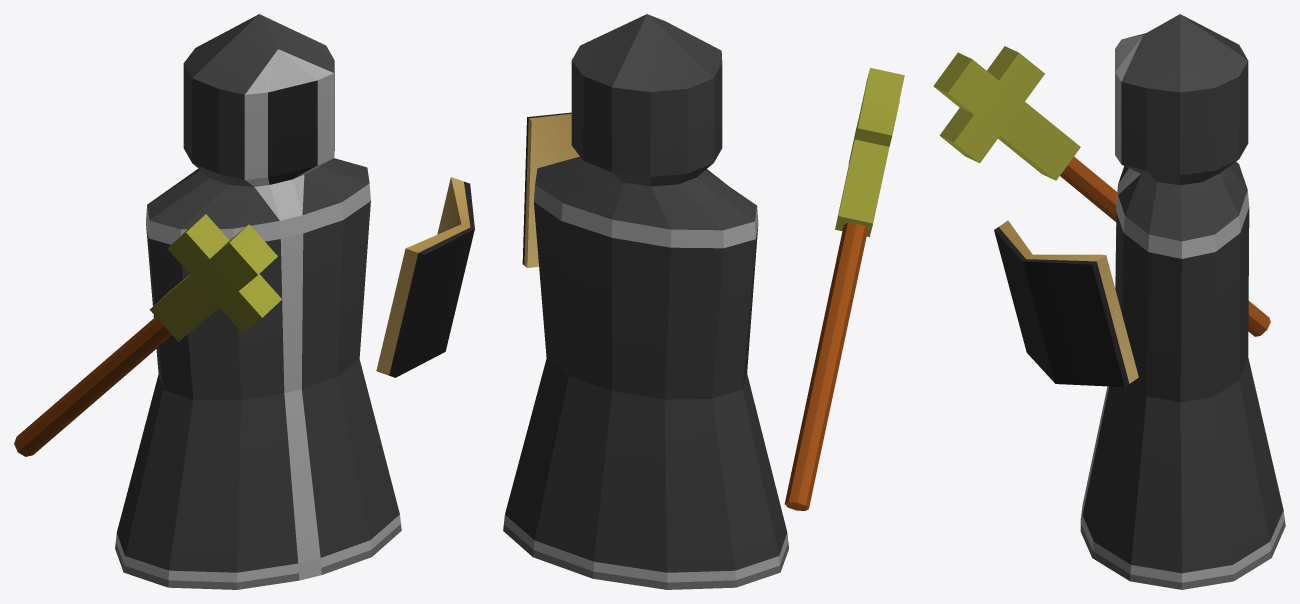
The model's file is Priest.glb.
The picture shows the model from 3 angles, left to right: view 1: azimuth 30°, elevation 25°; view 2: azimuth 150°, elevation 25°; view 3: azimuth 270°, elevation 25°; orthographic projection. The views are drawn at different scales.
Parts seen in each view (by area): view 1: Priest; view 2: Priest; view 3: Priest.
Boxes of the visible parts, x1,y1,x2,y2 form: Priest: (14, 14, 474, 589); Priest: (503, 14, 904, 589); Priest: (933, 14, 1285, 589).
Size of the model in its own units: 1.6 by 2.19 by 1.37.
1 material, 1 textured.
